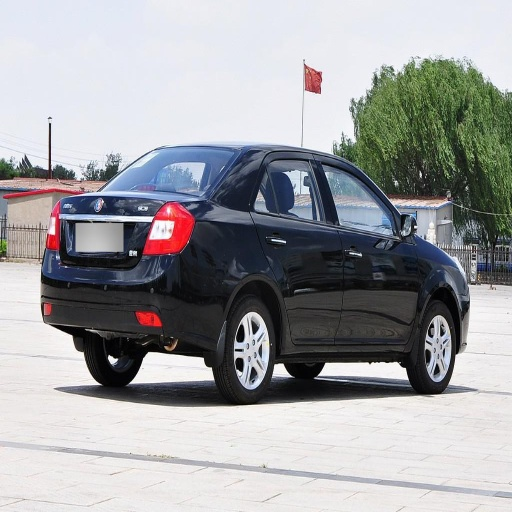back_bumper: (38, 251, 231, 351)
back_right_door: (253, 151, 342, 343)
